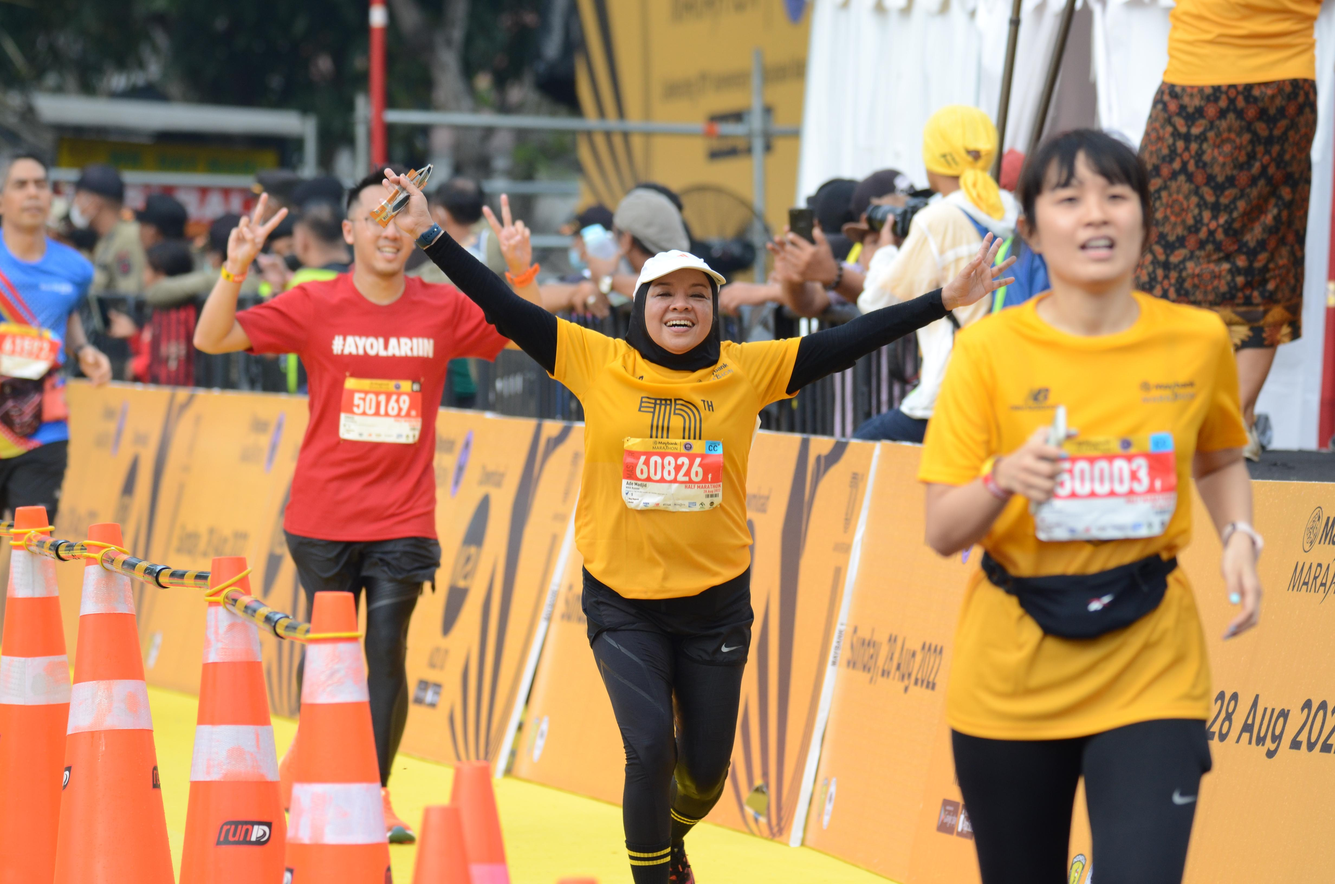bib: (1033, 435, 1177, 540), (623, 435, 724, 510), (341, 377, 424, 445), (0, 323, 60, 378)
